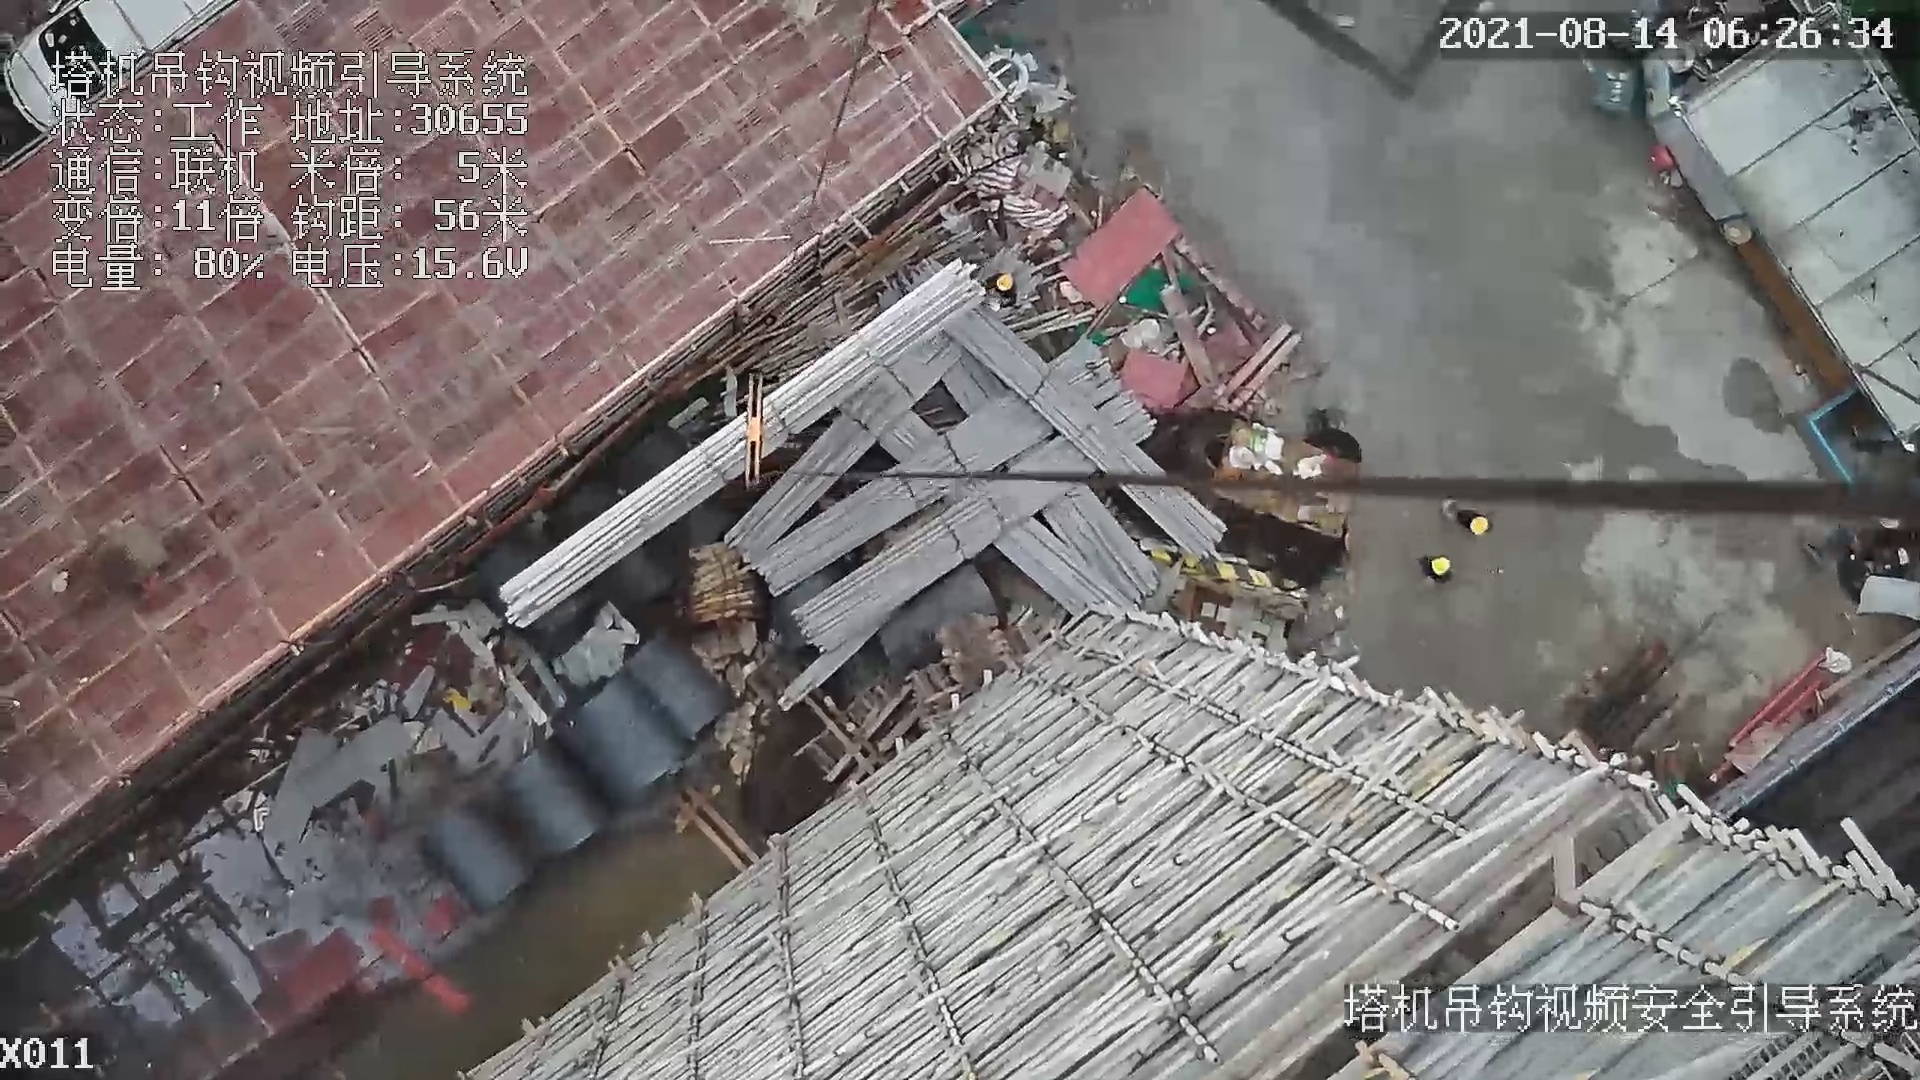helmet: (1430, 552, 1451, 576), (1468, 512, 1489, 535), (992, 273, 1016, 290)
hook: (740, 371, 794, 492)
person: (1440, 491, 1490, 535), (1414, 546, 1455, 582), (984, 269, 1020, 303)
